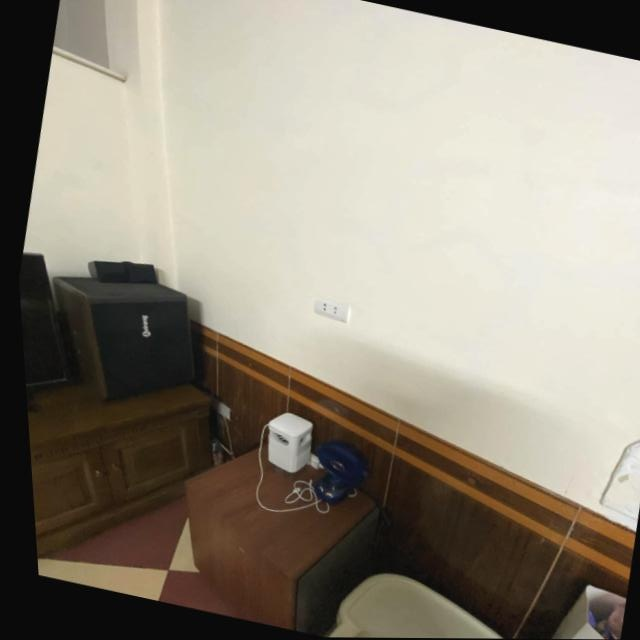outlet: (312, 294, 354, 323)
